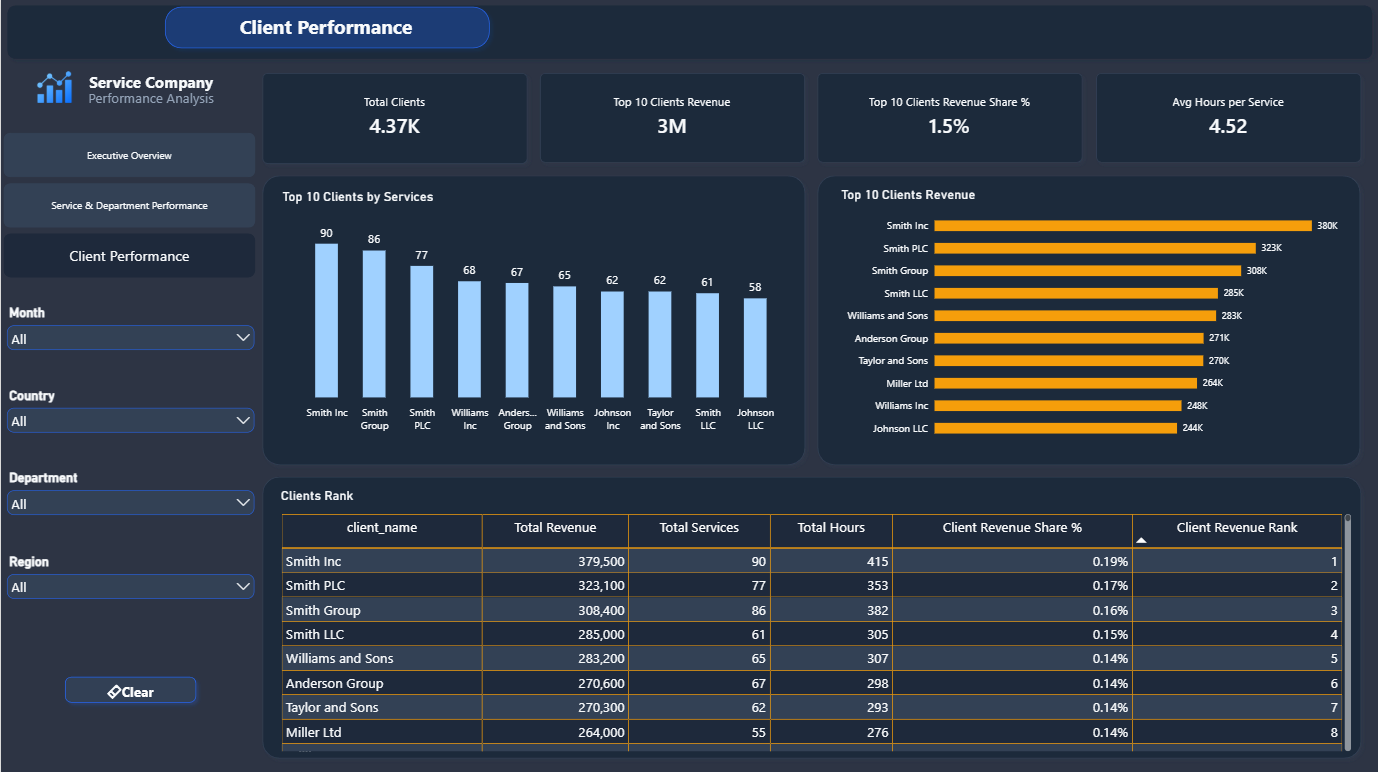

Layout of this report page (visuals, bound fields, positions):
{"tool":"powerbi","page":{"name":"Client Performance","canvas":[1920,1080],"ordinal":2},"visuals":[{"type":"shape","box":[0,0,1920.1,92.3],"z":0},{"type":"shape","box":[354.7,94.1,387.3,144.8],"z":1000},{"type":"shape","box":[742,94.1,387.3,143],"z":2000},{"type":"shape","box":[219,1.8,470.5,76],"z":3000},{"type":"actionButton","title":"Executive Overview","box":[242.5,7.2,421.7,65.1],"z":4000},{"type":"cardVisual","fields":{"Data":["_Measure.Total Clients"]},"box":[405.4,88.7,285.9,150.2],"z":5000},{"type":"cardVisual","fields":{"Data":["_Measure.Top 5 Clients Revenue"]},"box":[792.6,88.7,285.9,150.2],"z":6000},{"type":"shape","title":"Revenue Trend","box":[354.7,656.9,1549.1,410.8],"z":9000},{"type":"tableEx","title":"Clients Rank","fields":{"Values":["V_Service_Company_Analysis.client_name","_Measure.Total Revenue","_Measure.Total Services","_Measure.Total Hours","_Measure.Client Revenue Share %","_Measure.Client Revenue Rank"]},"box":[390.9,680.4,1491.2,367.4],"z":10000},{"type":"shape","title":"Revenue Trend","box":[1129.2,236.2,774.5,421.7],"z":11000},{"type":"barChart","title":"Top 10 Clients Revenue","fields":{"Category":["V_Service_Company_Analysis.client_name"],"Y":["_Measure.Total Revenue"]},"box":[1154.6,247.9,723.9,374.6],"z":12000},{"type":"shape","title":"Revenue Trend","box":[354.7,237.1,774.5,421.7],"z":13000},{"type":"columnChart","title":"Top 10 Clients by Services","fields":{"Category":["V_Service_Company_Analysis.client_name"],"Y":["_Measure.Total Services"]},"box":[376.4,251.5,734.7,371],"z":14000},{"type":"slicer","title":"Month","fields":{"Values":["Calender.MonthName"]},"box":[3.6,427.1,354.7,79.6],"z":15000},{"type":"slicer","title":"Month","fields":{"Values":["V_Service_Company_Analysis.country"]},"box":[3.6,542.3,354.7,79.6],"z":16000},{"type":"slicer","title":"Month","fields":{"Values":["V_Service_Company_Analysis.department"]},"box":[3.6,657.5,354.7,79.6],"z":17000},{"type":"slicer","title":"Month","fields":{"Values":["V_Service_Company_Analysis.region"]},"box":[3.6,772.7,354.7,79.6],"z":18000},{"type":"actionButton","box":[79.6,935.6,200.9,54.3],"z":19000},{"type":"pageNavigator","box":[3.6,186.4,351.1,204.5],"z":20000},{"type":"actionButton","box":[61.5,92.3,296.8,47.1],"z":21000},{"type":"actionButton","box":[61.5,112.2,296.8,54.3],"z":22000},{"type":"image","box":[45.2,97.7,57.9,50.7],"z":23000},{"type":"shape","box":[1129.2,94.1,387.3,143],"z":24000},{"type":"cardVisual","fields":{"Data":["_Measure.Top 5 Clients Revenue Share %"]},"box":[1179.9,88.7,285.9,150.2],"z":25000},{"type":"shape","box":[1516.5,94.1,387.3,143],"z":25001},{"type":"cardVisual","fields":{"Data":["_Measure.Avg Hours per Service"]},"box":[1567.2,88.7,285.9,150.2],"z":25002}]}

Visuals, with their boxes in screenshot pixels (x1, y1, x2, y2), scaled from the page's 1920x1080 canvas onto the 1378x772 screenshot:
shape: box=[0, 0, 1377, 66]
shape: box=[255, 67, 533, 171]
shape: box=[533, 67, 811, 169]
shape: box=[157, 1, 495, 56]
"Executive Overview" actionButton: box=[174, 5, 477, 52]
cardVisual - _Measure.Total Clients: box=[291, 63, 496, 171]
cardVisual - _Measure.Top 5 Clients Revenue: box=[569, 63, 774, 171]
"Revenue Trend" shape: box=[255, 470, 1366, 763]
"Clients Rank" tableEx: box=[281, 486, 1351, 749]
"Revenue Trend" shape: box=[810, 169, 1366, 470]
"Top 10 Clients Revenue" barChart: box=[829, 177, 1348, 445]
"Revenue Trend" shape: box=[255, 169, 810, 471]
"Top 10 Clients by Services" columnChart: box=[270, 180, 797, 445]
"Month" slicer: box=[3, 305, 257, 362]
"Month" slicer: box=[3, 388, 257, 445]
"Month" slicer: box=[3, 470, 257, 527]
"Month" slicer: box=[3, 552, 257, 609]
actionButton: box=[57, 669, 201, 708]
pageNavigator: box=[3, 133, 255, 279]
actionButton: box=[44, 66, 257, 100]
actionButton: box=[44, 80, 257, 119]
image: box=[32, 70, 74, 106]
shape: box=[810, 67, 1088, 169]
cardVisual - _Measure.Top 5 Clients Revenue Share %: box=[847, 63, 1052, 171]
shape: box=[1088, 67, 1366, 169]
cardVisual - _Measure.Avg Hours per Service: box=[1125, 63, 1330, 171]
